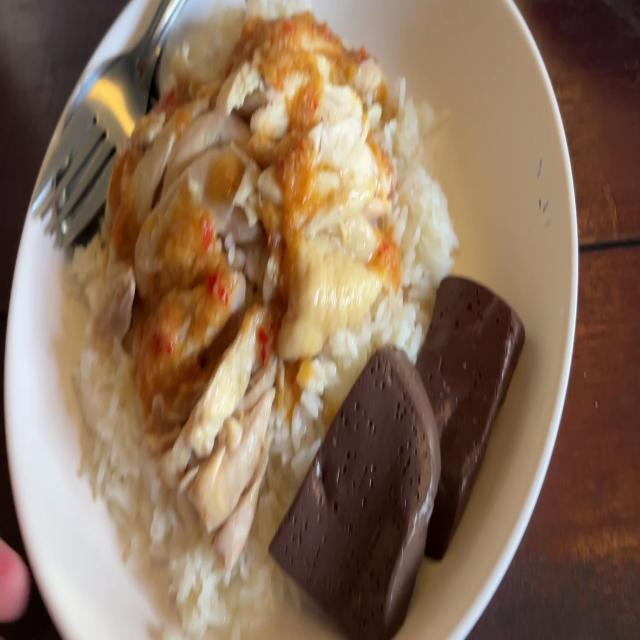boiled_chicken: (111, 23, 378, 444)
boiled_chicken_blood_jelly: (277, 337, 438, 621), (400, 277, 516, 535)
chicken_rice: (70, 8, 523, 621)
